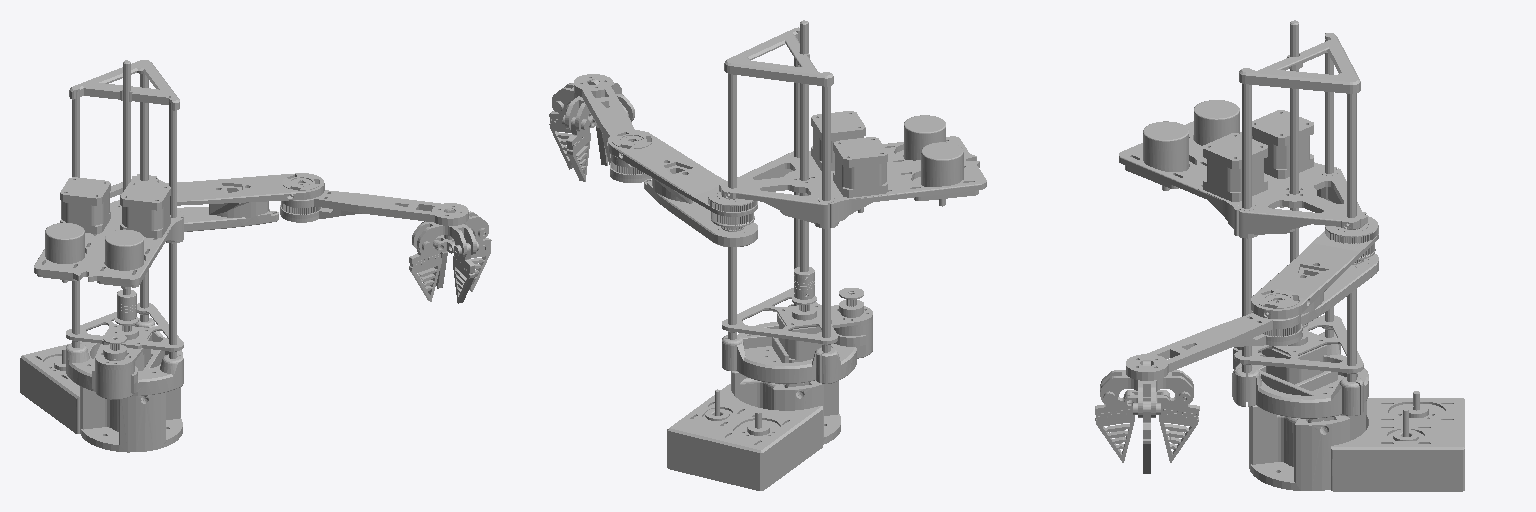
robot.urdf — urdf_scara:
<?xml version="1.0" encoding="utf-8"?>
<!-- This URDF was automatically created by SolidWorks to URDF Exporter! Originally created by [author] ([email redacted]) 
     Commit Version: 1.6.0-1-g15f4949  Build Version: 1.6.7594.29634
     For more information, please see http://wiki.ros.org/sw_urdf_exporter -->
<robot
  name="urdf_scara">
  <link
    name="link1">
    <inertial>
      <origin
        xyz="0.0013426 0.039792 0.026812"
        rpy="0 0 0" />
      <mass
        value="0.33397" />
      <inertia
        ixx="0.00024438"
        ixy="-6.6594E-07"
        ixz="-2.7069E-07"
        iyy="0.00024672"
        iyz="-3.1449E-07"
        izz="0.00036244" />
    </inertial>
    <visual>
      <origin
        xyz="0 0 0"
        rpy="0 0 0" />
      <geometry>
        <mesh
          filename="package://urdf_scara/meshes/link1.STL" />
      </geometry>
      <material
        name="">
        <color
          rgba="0.75294 0.75294 0.75294 1" />
      </material>
    </visual>
    <collision>
      <origin
        xyz="0 0 0"
        rpy="0 0 0" />
      <geometry>
        <mesh
          filename="package://urdf_scara/meshes/link1.STL" />
      </geometry>
    </collision>
  </link>
  <link
    name="link2">
    <inertial>
      <origin
        xyz="0.00021907 0.082554 0.015693"
        rpy="0 0 0" />
      <mass
        value="0.34183" />
      <inertia
        ixx="0.00060122"
        ixy="-2.7584E-07"
        ixz="5.9216E-07"
        iyy="0.00031665"
        iyz="-2.0345E-06"
        izz="0.00060053" />
    </inertial>
    <visual>
      <origin
        xyz="0 0 0"
        rpy="0 0 0" />
      <geometry>
        <mesh
          filename="package://urdf_scara/meshes/link2.STL" />
      </geometry>
      <material
        name="">
        <color
          rgba="0.75294 0.75294 0.75294 1" />
      </material>
    </visual>
    <collision>
      <origin
        xyz="0 0 0"
        rpy="0 0 0" />
      <geometry>
        <mesh
          filename="package://urdf_scara/meshes/link2.STL" />
      </geometry>
    </collision>
  </link>
  <joint
    name="joint1"
    type="continuous">
    <origin
      xyz="0 0 0.0408"
      rpy="1.5708 0 -0.78304" />
    <parent
      link="link1" />
    <child
      link="link2" />
    <axis
      xyz="0 1 0" />
  </joint>
  <link
    name="link3">
    <inertial>
      <origin
        xyz="-0.00011340300132002 0.03392958692366 0.0633738264867445"
        rpy="0 0 0" />
      <mass
        value="0.349496663604908" />
      <inertia
        ixx="0.000408164923446136"
        ixy="-5.40305147548095E-07"
        ixz="-1.79824596486094E-06"
        iyy="0.000539132766649765"
        iyz="-8.69433052844277E-06"
        izz="0.00015621201988452" />
    </inertial>
    <visual>
      <origin
        xyz="0 0 0"
        rpy="0 0 0" />
      <geometry>
        <mesh
          filename="package://urdf_scara/meshes/link3.STL" />
      </geometry>
      <material
        name="">
        <color
          rgba="0.752941176470588 0.752941176470588 0.752941176470588 1" />
      </material>
    </visual>
    <collision>
      <origin
        xyz="0 0 0"
        rpy="0 0 0" />
      <geometry>
        <mesh
          filename="package://urdf_scara/meshes/link3.STL" />
      </geometry>
    </collision>
  </link>
  <joint
    name="joint2"
    type="prismatic">
    <origin
      xyz="-4.5017E-05 0.17725 0.017"
      rpy="0 0 0" />
    <parent
      link="link2" />
    <child
      link="link3" />
    <axis
      xyz="0 1 0" />
    <limit
      lower="0"
      upper="0"
      effort="0"
      velocity="0" />
  </joint>
  <link
    name="link4">
    <inertial>
      <origin
        xyz="3.62912143247324E-05 -0.000974279742602335 -0.0572628869680065"
        rpy="0 0 0" />
      <mass
        value="0.132586772624035" />
      <inertia
        ixx="0.000228708974879689"
        ixy="-2.43672549428385E-10"
        ixz="3.86056471496332E-09"
        iyy="0.000238850146879488"
        iyz="9.39543443533618E-06"
        izz="2.12648162488211E-05" />
    </inertial>
    <visual>
      <origin
        xyz="0 0 0"
        rpy="0 0 0" />
      <geometry>
        <mesh
          filename="package://urdf_scara/meshes/link4.STL" />
      </geometry>
      <material
        name="">
        <color
          rgba="0.752941176470588 0.752941176470588 0.752941176470588 1" />
      </material>
    </visual>
    <collision>
      <origin
        xyz="0 0 0"
        rpy="0 0 0" />
      <geometry>
        <mesh
          filename="package://urdf_scara/meshes/link4.STL" />
      </geometry>
    </collision>
  </link>
  <joint
    name="joint3"
    type="continuous">
    <origin
      xyz="4.5017E-05 0 -0.067"
      rpy="0 -1.2013 0" />
    <parent
      link="link3" />
    <child
      link="link4" />
    <axis
      xyz="0 1 0" />
  </joint>
  <link
    name="link5">
    <inertial>
      <origin
        xyz="-1.9831E-05 -0.0018816 0.047009"
        rpy="0 0 0" />
      <mass
        value="0.059264" />
      <inertia
        ixx="6.5462E-05"
        ixy="-1.3662E-10"
        ixz="-5.7985E-10"
        iyy="6.8474E-05"
        iyz="-1.6609E-06"
        izz="6.616E-06" />
    </inertial>
    <visual>
      <origin
        xyz="0 0 0"
        rpy="0 0 0" />
      <geometry>
        <mesh
          filename="package://urdf_scara/meshes/link5.STL" />
      </geometry>
      <material
        name="">
        <color
          rgba="0.75294 0.75294 0.75294 1" />
      </material>
    </visual>
    <collision>
      <origin
        xyz="0 0 0"
        rpy="0 0 0" />
      <geometry>
        <mesh
          filename="package://urdf_scara/meshes/link5.STL" />
      </geometry>
    </collision>
  </link>
  <joint
    name="joint4"
    type="continuous">
    <origin
      xyz="0 0 -0.1528"
      rpy="3.1416 0.39723 3.1416" />
    <parent
      link="link4" />
    <child
      link="link5" />
    <axis
      xyz="0 1 0" />
  </joint>
  <link
    name="gripper">
    <inertial>
      <origin
        xyz="4.99742647991352E-06 -0.0289277190234936 -3.35221797764795E-07"
        rpy="0 0 0" />
      <mass
        value="0.0561550220430728" />
      <inertia
        ixx="1.10651708813537E-05"
        ixy="1.72410506977288E-09"
        ixz="1.39810578286145E-10"
        iyy="1.41598237128112E-05"
        iyz="-1.15651071797977E-10"
        izz="1.10656862676397E-05" />
    </inertial>
    <visual>
      <origin
        xyz="0 0 0"
        rpy="0 0 0" />
      <geometry>
        <mesh
          filename="package://urdf_scara/meshes/gripper.STL" />
      </geometry>
      <material
        name="">
        <color
          rgba="0.752941176470588 0.752941176470588 0.752941176470588 1" />
      </material>
    </visual>
    <collision>
      <origin
        xyz="0 0 0"
        rpy="0 0 0" />
      <geometry>
        <mesh
          filename="package://urdf_scara/meshes/gripper.STL" />
      </geometry>
    </collision>
  </link>
  <joint
    name="join5"
    type="continuous">
    <origin
      xyz="-3.6415E-05 0 0.15"
      rpy="0 -0.75998 0" />
    <parent
      link="link5" />
    <child
      link="gripper" />
    <axis
      xyz="0 1 0" />
  </joint>
</robot>

--- What the picture shows (computed from the rendered views, not written in the file) ---
The picture shows the robot from 3 angles, left to right: view 1: azimuth 30°, elevation 25°; view 2: azimuth 150°, elevation 25°; view 3: azimuth 270°, elevation 25°; orthographic projection.
Model urdf_scara with 6 links and 5 joints (4 continuous, 1 prismatic), rooted at link1, posed every joint at zero.
Links seen in each view (by area): view 1: link2, link3, link1, link4, gripper, link5; view 2: link2, link3, link1, link4, gripper, link5; view 3: link2, link1, link3, link4, gripper, link5.
Link boxes in pixels (x1,y1,x2,y2): link2: (66,60,183,399); link3: (34,174,183,288); link1: (20,341,182,452); link4: (120,173,324,231); gripper: (409,208,491,303); link5: (280,183,468,225); link2: (722,20,872,383); link3: (719,111,986,228); link1: (667,371,840,490); link4: (608,130,757,246); gripper: (549,79,634,181); link5: (574,74,651,182); link2: (1232,20,1368,418); link1: (1249,391,1464,491); link3: (1119,100,1367,238); link4: (1251,216,1378,325); gripper: (1095,360,1199,473); link5: (1126,300,1302,380).
Bounding box of the posed robot: 0.4808 × 0.3084 × 0.4018 m (x, y, z).
Meshes: 6 distinct files referenced, 6 mesh visuals loaded (6 binary STL).